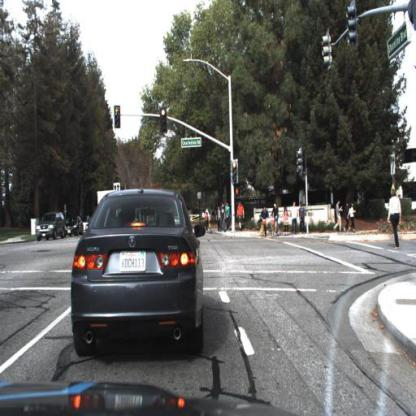biker: (257, 201, 271, 238), (267, 201, 281, 238)
car: (70, 185, 205, 361), (37, 213, 66, 244), (65, 213, 86, 238)
pedestrian: (388, 185, 404, 255), (234, 198, 248, 234), (344, 201, 358, 237), (332, 197, 344, 234), (217, 200, 229, 233), (346, 203, 358, 235), (289, 201, 298, 237), (203, 207, 214, 236), (282, 205, 291, 237), (299, 200, 307, 236), (226, 199, 234, 233), (345, 201, 352, 233), (343, 201, 350, 230)
trafficLight-Red: (230, 158, 241, 188), (159, 104, 169, 136)
trafficLight-RedLeft: (112, 104, 122, 131)
